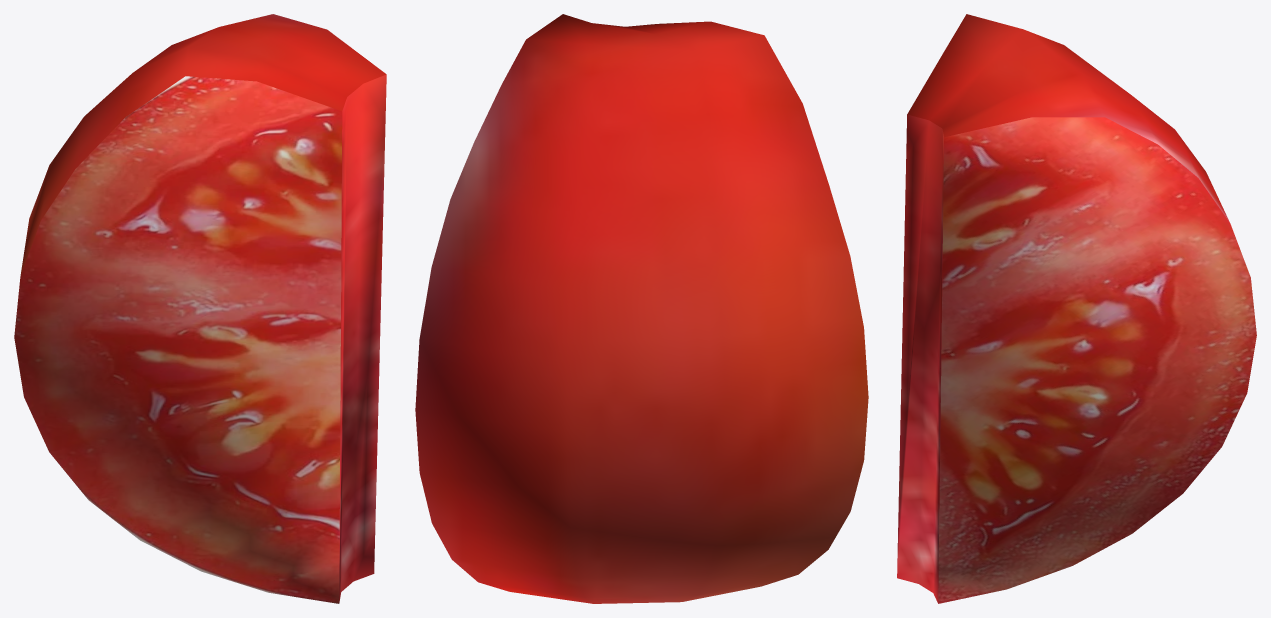
The model's file is TomatoPiece.fbx.
3 renders of one model, left to right at view 1: azimuth 30°, elevation 25°; view 2: azimuth 150°, elevation 25°; view 3: azimuth 270°, elevation 25°, orthographic. The views are drawn at different scales.
Visible parts, largest first — view 1: Tomato.002; view 2: Tomato.002; view 3: Tomato.002.
Part boxes in pixels (x1,y1,x2,y2): Tomato.002: (14, 14, 386, 603); Tomato.002: (415, 14, 868, 603); Tomato.002: (897, 14, 1256, 603).
Bounding box in the file's own units: 14.44 × 22.78 × 14.59.
1 material, 1 textured.
